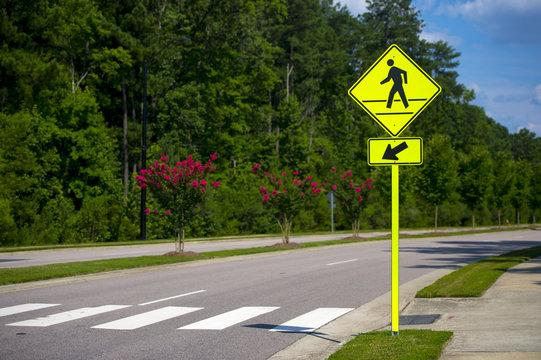traffic sign: (341, 39, 449, 343)
